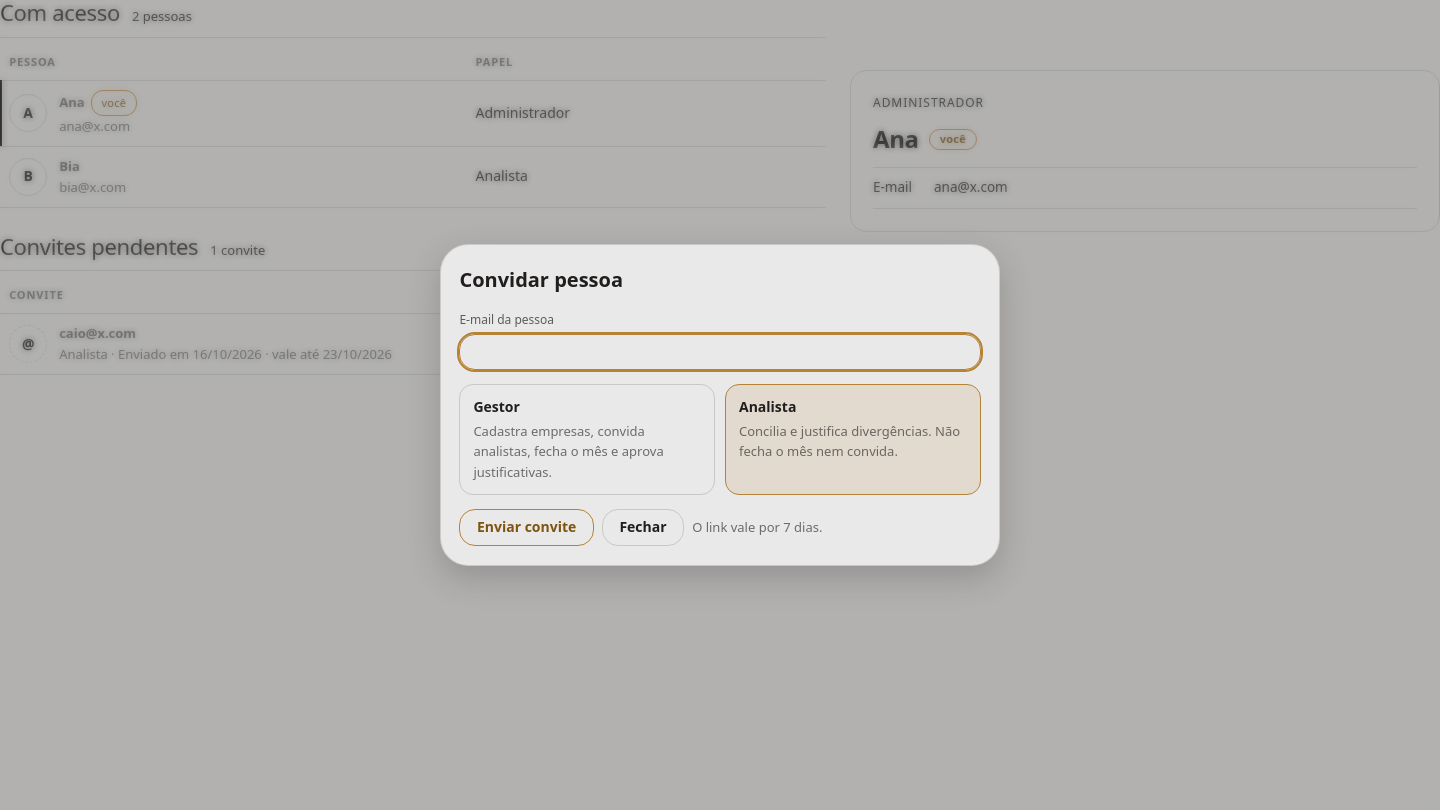
Scenario: a equipe › convidar põe o convite no topo dos pendentes e mostra o retorno
In the field labelled "E-mail da pessoa": (720, 352) x1=459 y1=334 x2=981 y2=370, type "dani@x.com"
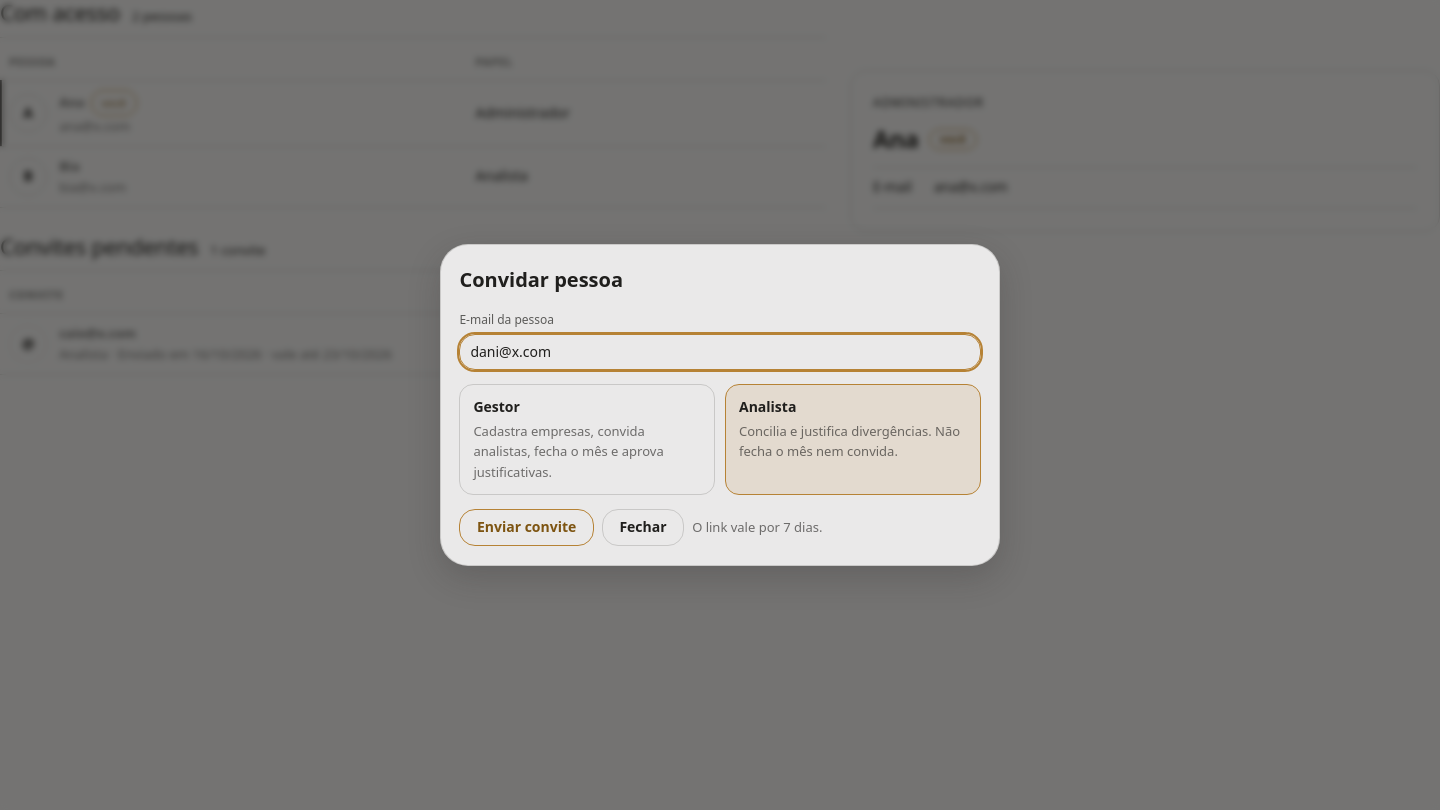
Click the button "Enviar convite": click(527, 528) x1=459 y1=509 x2=594 y2=546
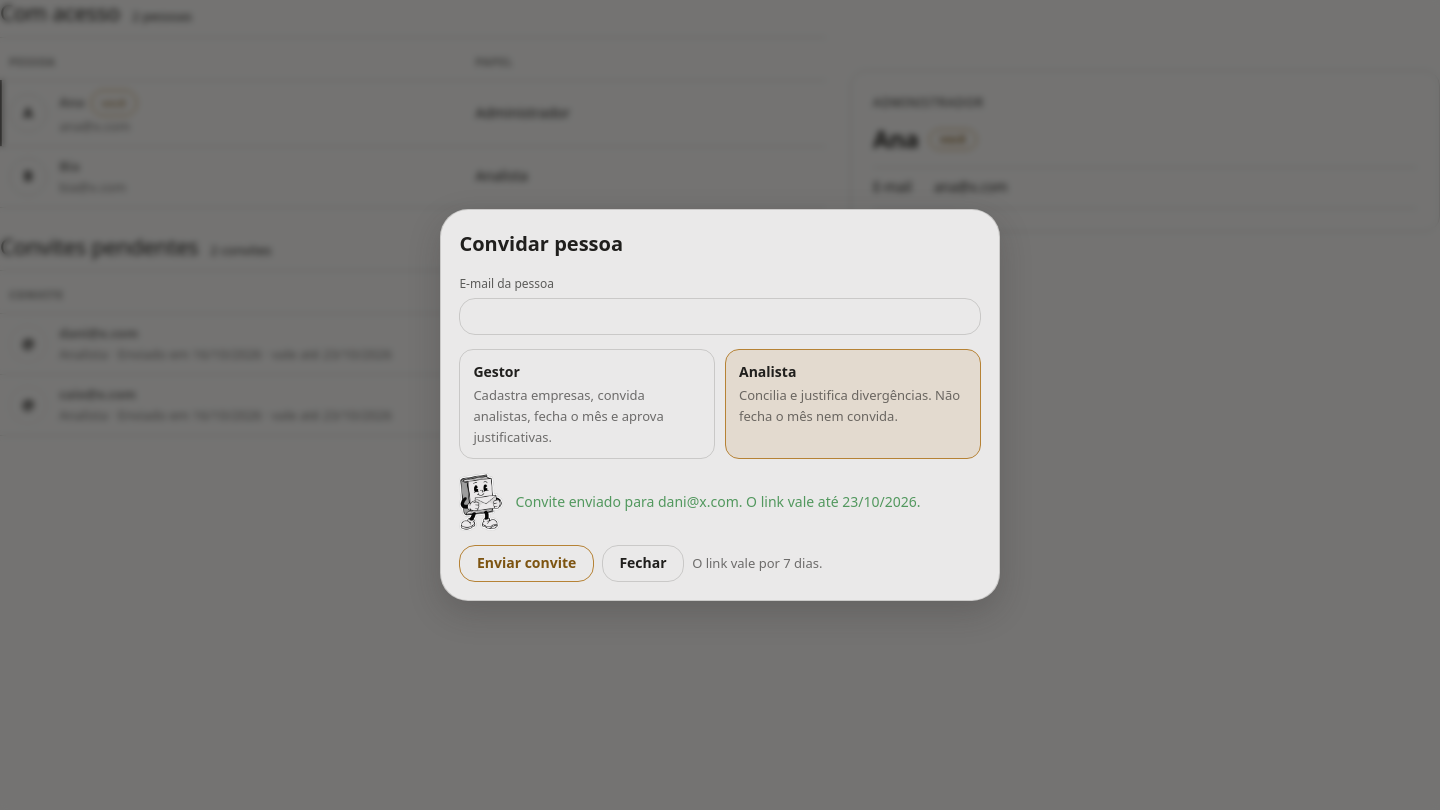
Expected: the message reads "Convite enviado para dani@x.com. O link vale até 23/10/2026.", x1=515 y1=492 x2=920 y2=511
Expected: the field labelled "E-mail da pessoa" is empty, x1=459 y1=298 x2=981 y2=335
